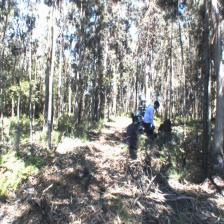trunktrack_idkeyframe: (201, 62, 210, 166), (213, 62, 223, 155)
